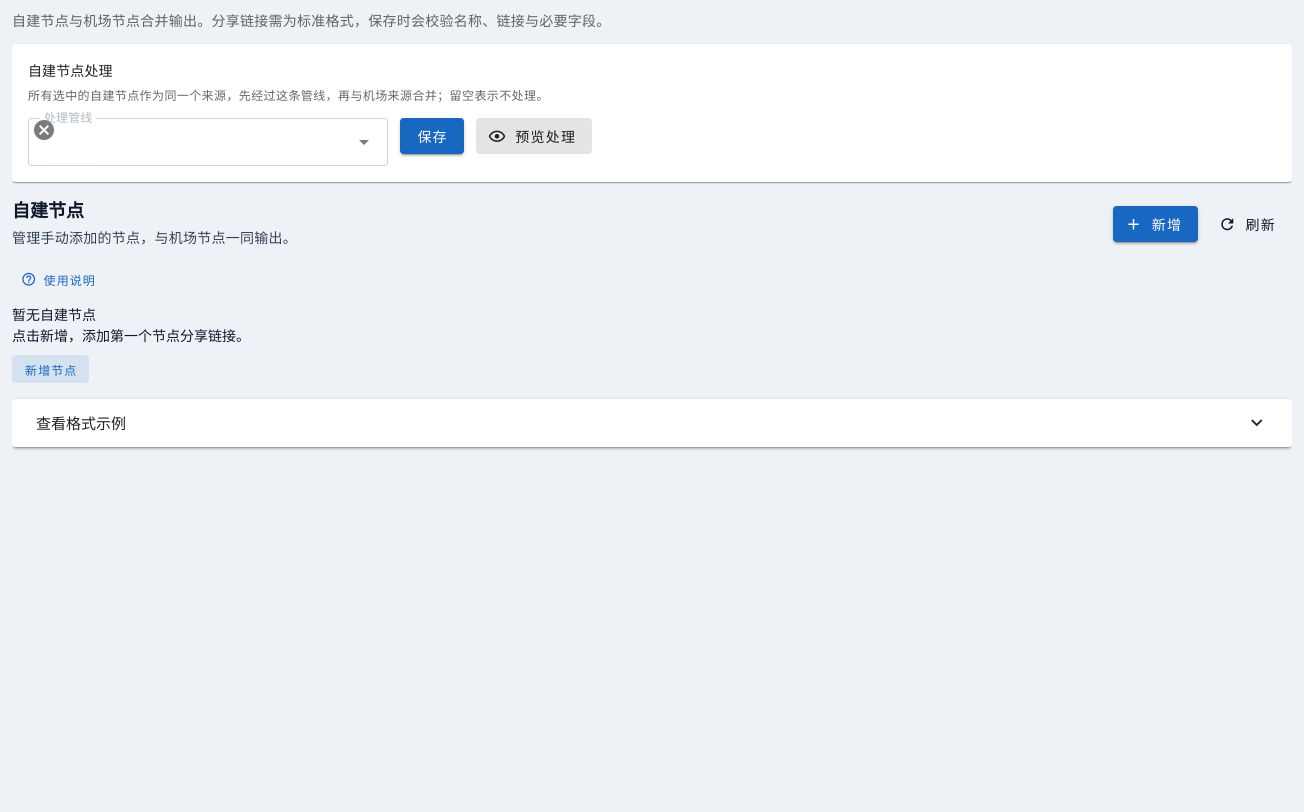
Test: SelfNodesPage › 展开格式示例折叠面板渲染 4 条示例
This screenshot has width=1304, height=812.
Click the button "查看格式示例" at x=81, y=423, box [12,399,1292,447]
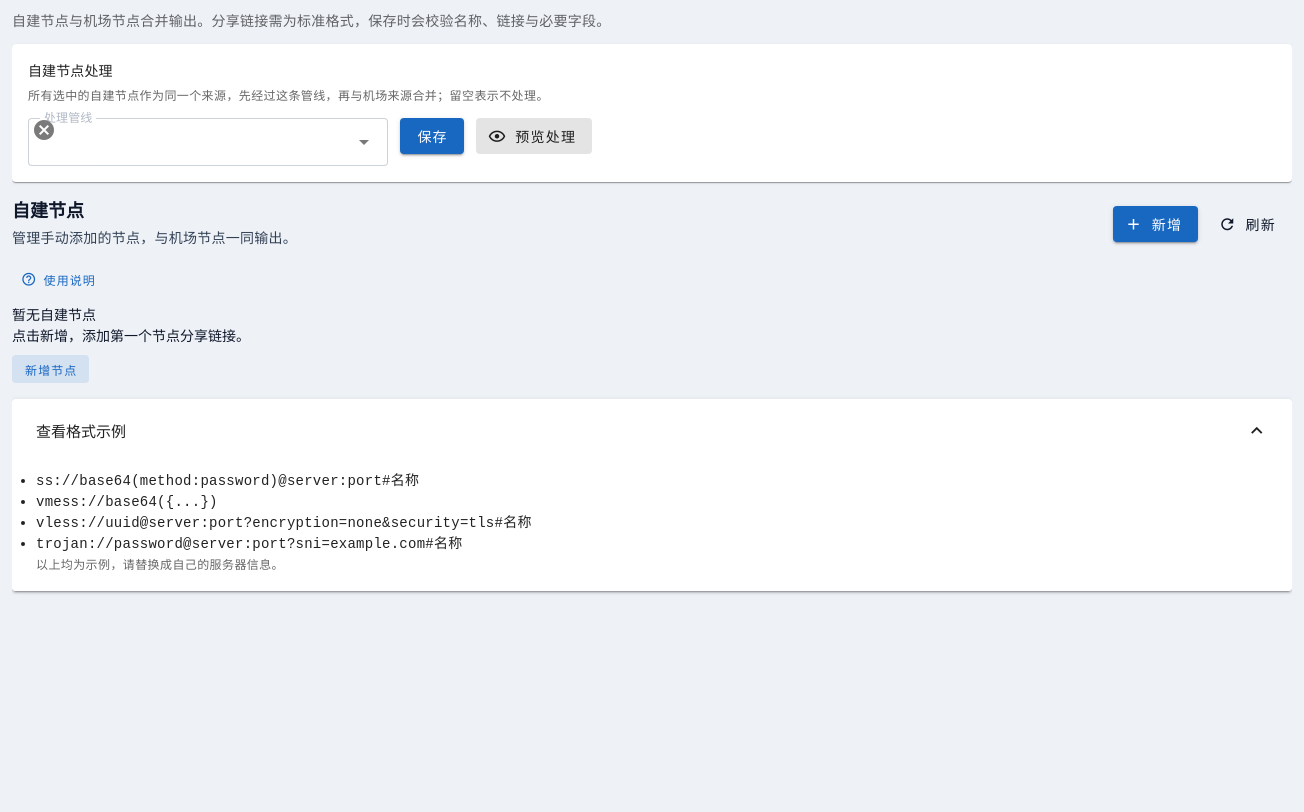
Check: the text "查看格式示例" is shown, box [12,399,1292,463]
Check: the text "以上均为示例" is shown, box [36,558,284,572]
